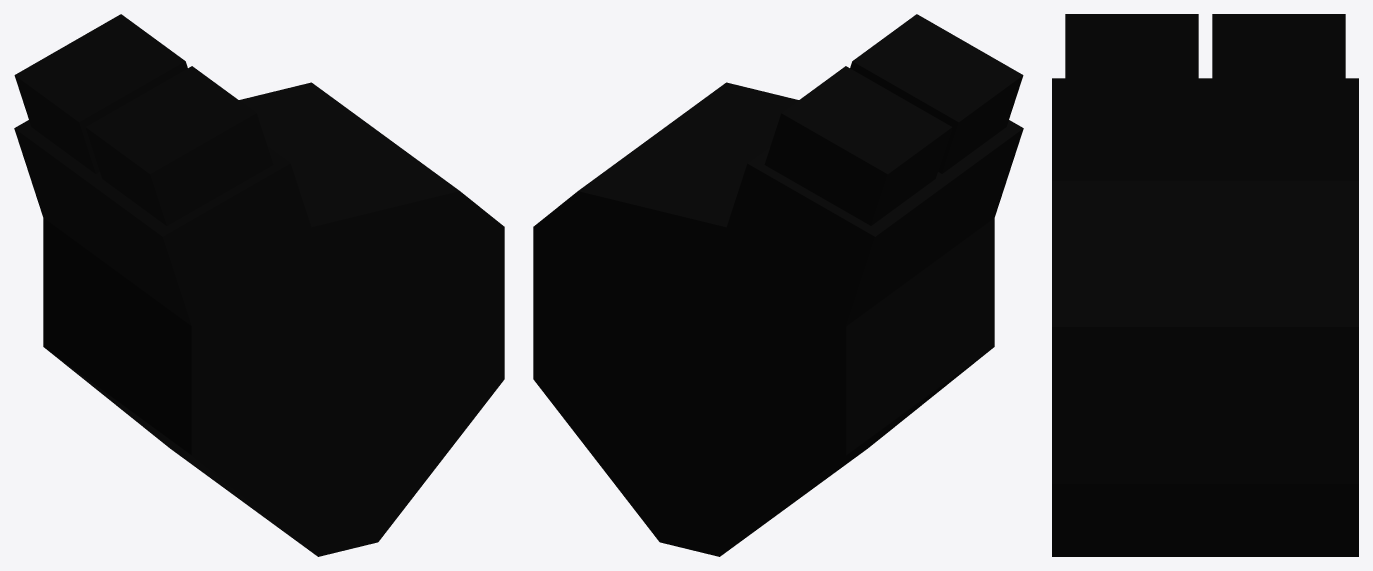
Rendered from v2insolvoauto.obj.
The picture shows the model from 3 angles, left to right: view 1: azimuth 30°, elevation 25°; view 2: azimuth 150°, elevation 25°; view 3: azimuth 270°, elevation 25°; orthographic projection. The views are drawn at different scales.
Parts seen in each view (by area): view 1: cube; view 2: cube; view 3: cube.
Boxes of the visible parts, left/top/right/bottom form: cube: left=14, top=14, right=504, bottom=556; cube: left=533, top=14, right=1023, bottom=556; cube: left=1052, top=14, right=1358, bottom=556.
Size of the model in its own units: 0.5534 by 0.6871 by 0.4086.
